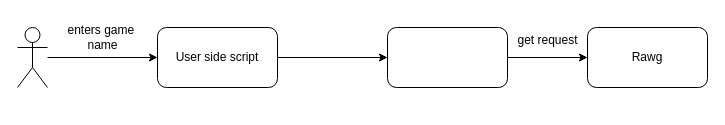
Some shapes in this 725 by 125 pixel diagram are drawn without their labels. Here are the shapes that lost their labels. From the top down, the centre of each, then its label:
At [32,57]: "Actor".
At [447,57]: "vercel script".
